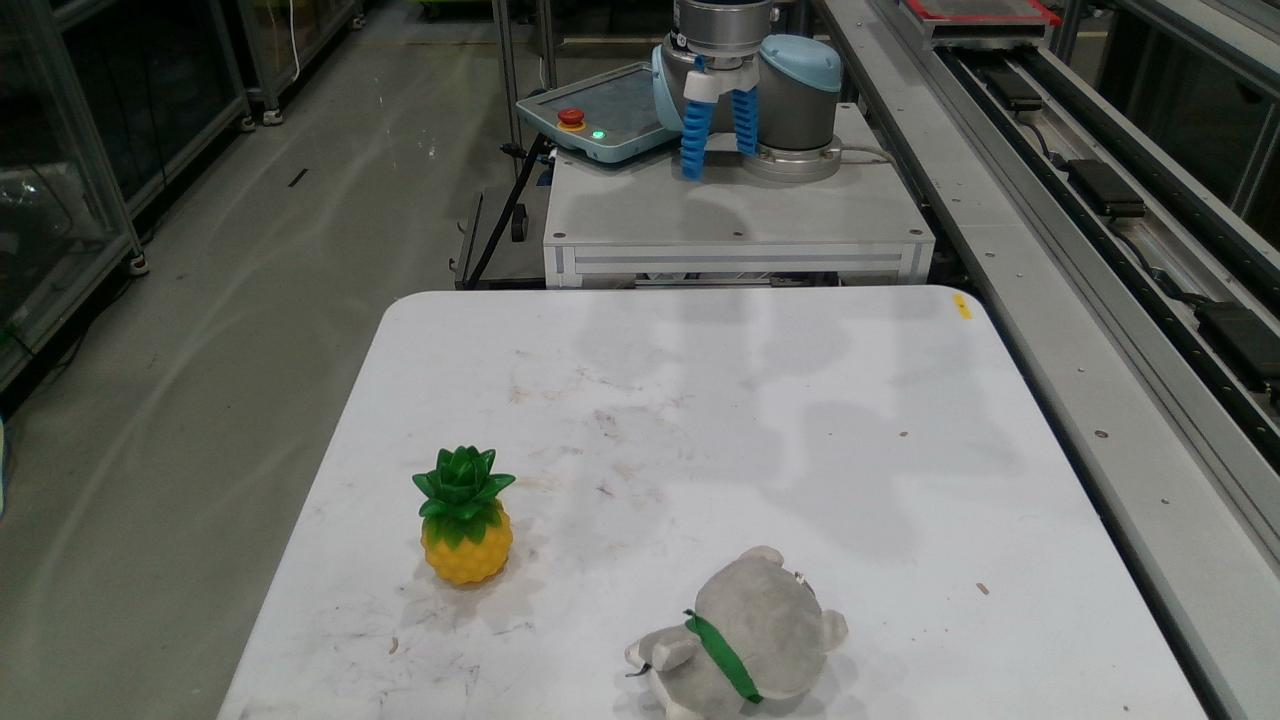UR5: (652, 0, 842, 181)
gripper_left: (682, 101, 710, 179)
gripper_right: (732, 88, 758, 155)
target: (628, 547, 846, 719), (414, 447, 510, 583)
